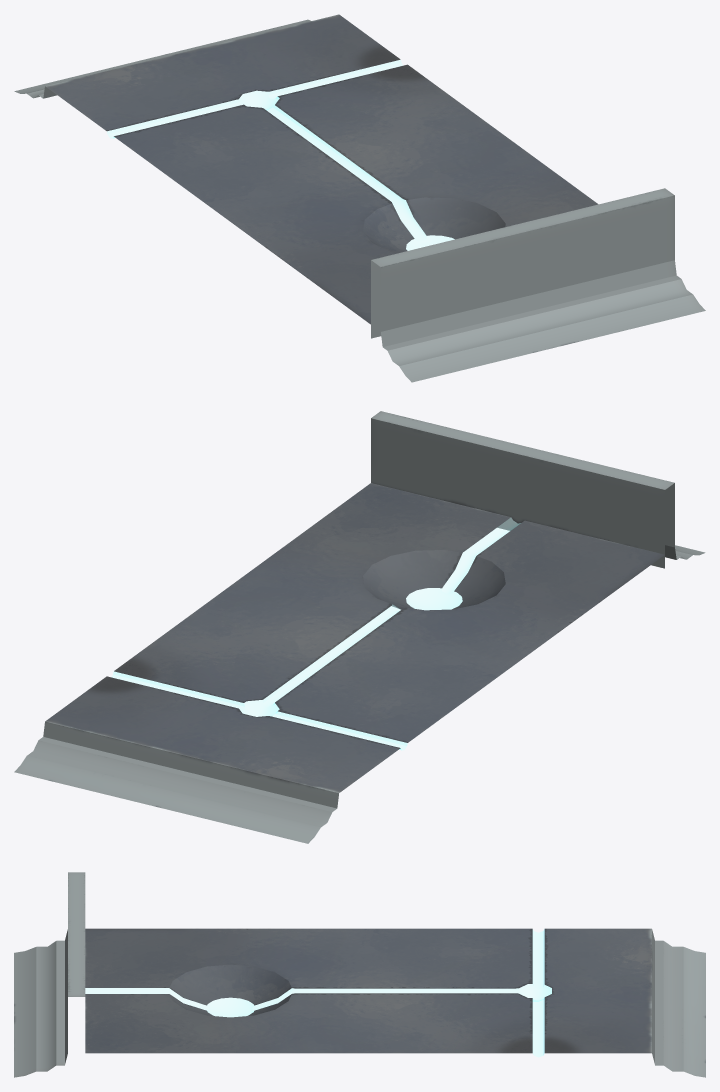
Rendered from SM_Multiswitch_middlepanel.fbx.
The picture shows the model from 3 angles, top to bottom: view 1: azimuth 30°, elevation 25°; view 2: azimuth 150°, elevation 25°; view 3: azimuth 270°, elevation 25°; orthographic projection. The views are drawn at different scales.
Visible parts, largest first — view 1: Bottom.012; view 2: Bottom.012; view 3: Bottom.012.
Part boxes in pixels (box(x1,y1,x2,y2)): Bottom.012: box(14, 14, 705, 382); Bottom.012: box(14, 411, 705, 843); Bottom.012: box(14, 872, 705, 1077).
Size of the model in its own units: 0.645 by 0.1941 by 1.51.
